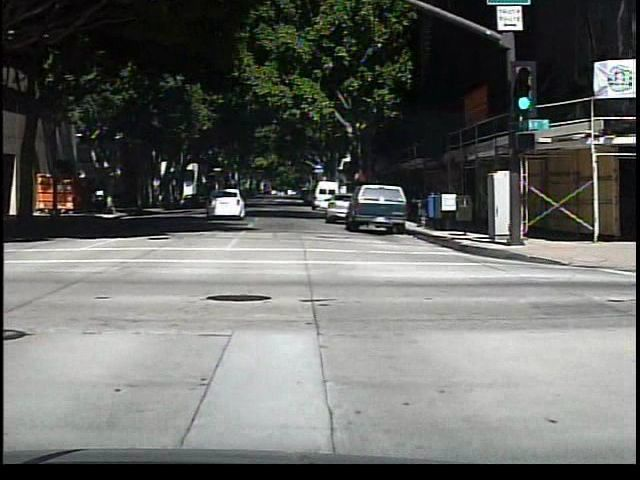person: (92, 183, 108, 218)
